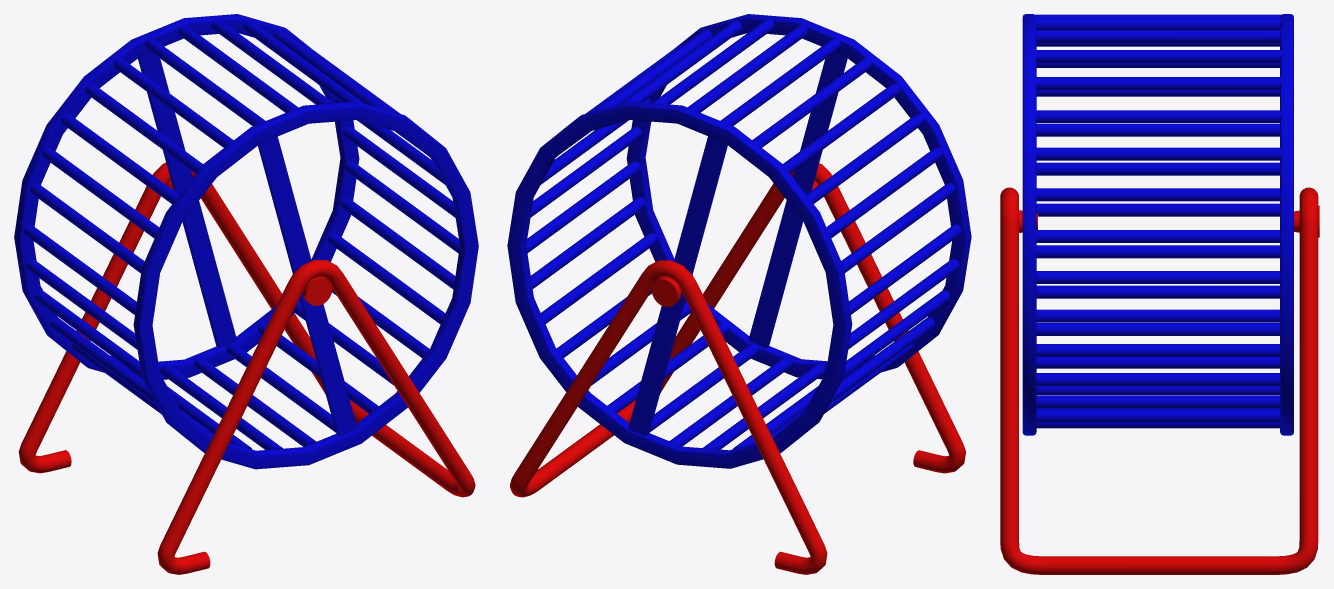
Rendered from hampsterWheel.fbx.
3 renders of one model, left to right at view 1: azimuth 30°, elevation 25°; view 2: azimuth 150°, elevation 25°; view 3: azimuth 270°, elevation 25°, orthographic. The views are drawn at different scales.
Parts seen in each view (by area): view 1: hamp; view 2: hamp; view 3: hamp.
Part boxes in pixels (x1,y1,x2,y2): hamp: (14,14,478,574); hamp: (507,14,971,574); hamp: (1000,14,1319,574).
Bounding box in the file's own units: 1.46 × 1.75 × 1.1.
